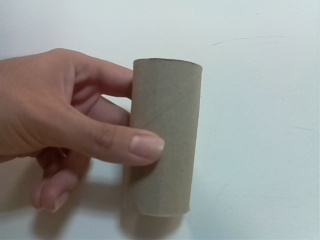rollo papel: (126, 56, 204, 219)
